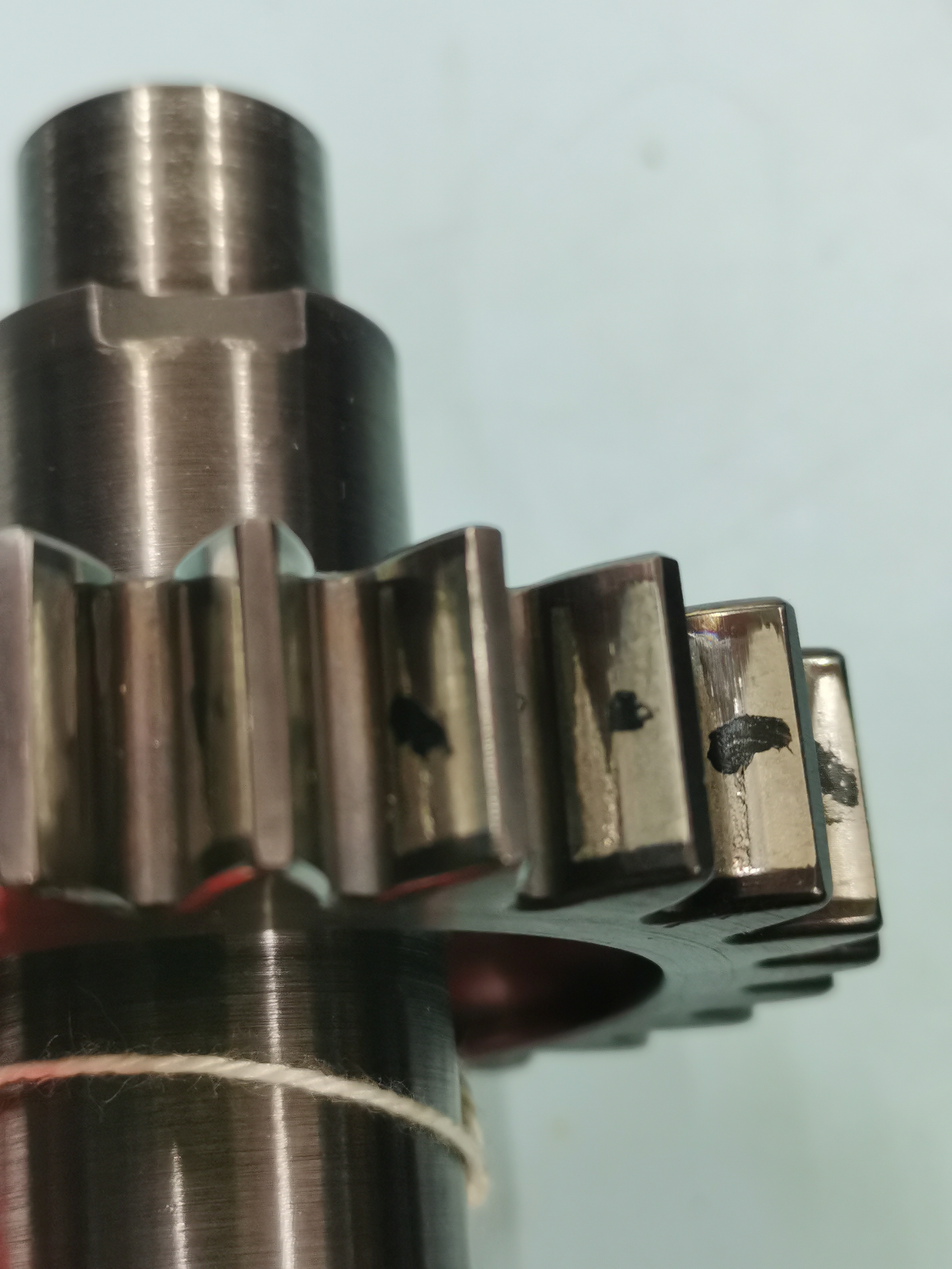Abrasion: (515, 550, 699, 896), (352, 513, 504, 904), (687, 592, 814, 931)
